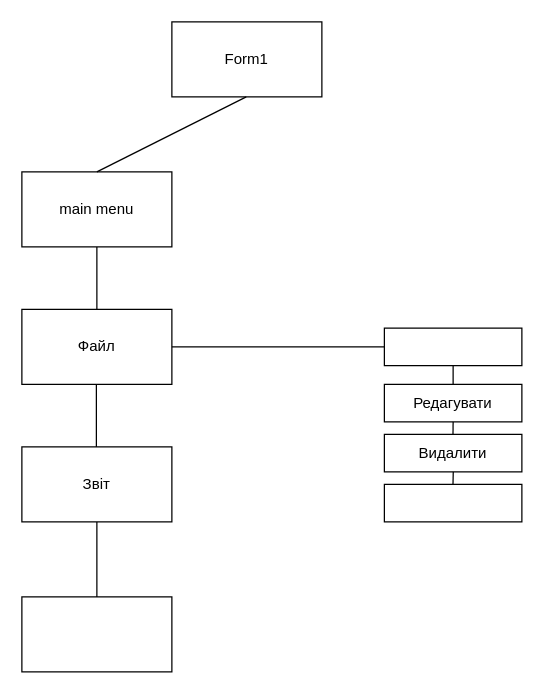
This 544x694 diagram has some shape labels left out. Here are the shapes that lost their labels. From the top down, the centre of each, then its label:
At pixel 452 346: "Додати".
At pixel 452 502: "Вийти".
At pixel 96 634: "Справка".
